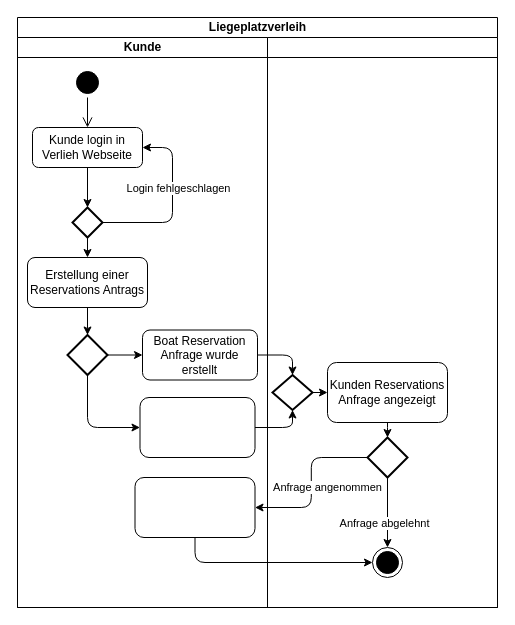
Image size: 515x625. Some labels were removed from this diagram. Each missing label, with the centre of its shape:
"Benachrichtung das Antrag angenommen wurde" goes at point 194,507.
"Liegeplatz Reservation Anfrage wurde erstellt" goes at point 197,427.
"Mitarbeiter" goes at point 382,322.
